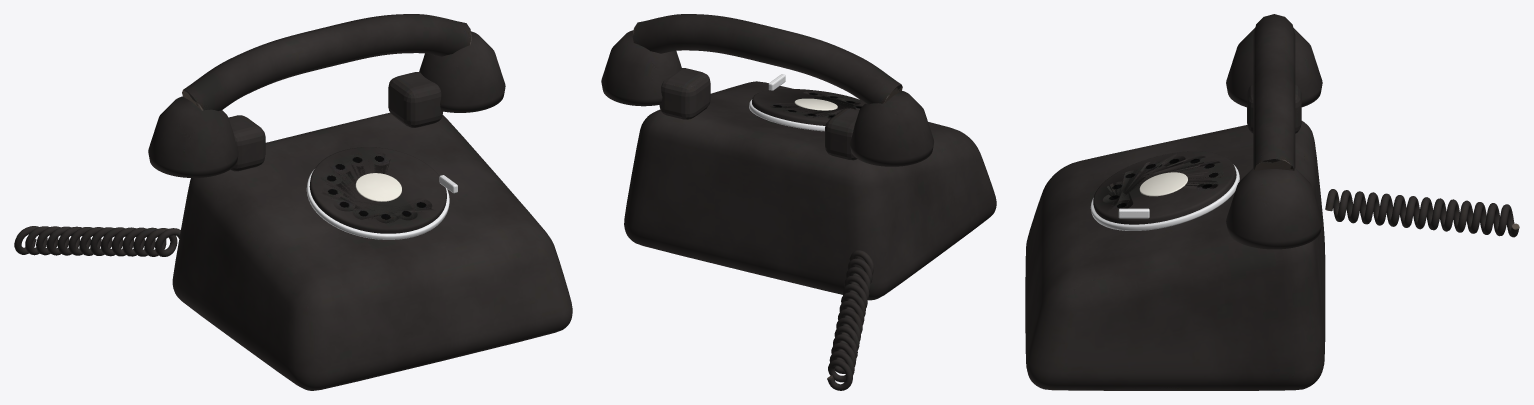
Rendered from np_rotary_phone_1k.fbx.
3 renders of one model, left to right at view 1: azimuth 30°, elevation 25°; view 2: azimuth 150°, elevation 25°; view 3: azimuth 270°, elevation 25°, orthographic. The views are drawn at different scales.
Parts seen in each view (by area): view 1: np_rotary_phone; view 2: np_rotary_phone; view 3: np_rotary_phone.
Boxes of the visible parts, x1,y1,x2,y2 form: np_rotary_phone: (14,14,572,390); np_rotary_phone: (601,14,996,390); np_rotary_phone: (1025,14,1519,390).
Size of the model in its own units: 0.2948 by 0.1963 by 0.3173.
1 material, 1 textured.
